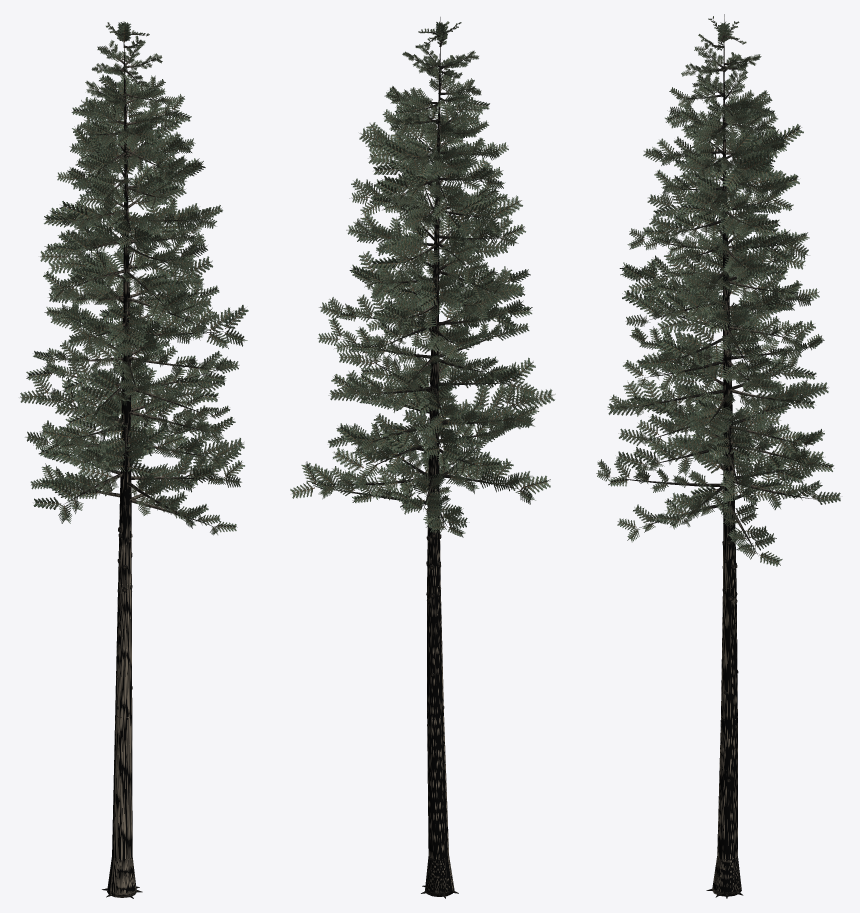
The model's file is Sitka_OldLarge_01_HighPruned_Healed_LOD0.fbx.
The picture shows the model from 3 angles, left to right: view 1: azimuth 30°, elevation 25°; view 2: azimuth 150°, elevation 25°; view 3: azimuth 270°, elevation 25°; orthographic projection.
Parts seen in each view (by area): view 1: Sitka_OldLarge_01_HighPruned_Healed_LOD0; view 2: Sitka_OldLarge_01_HighPruned_Healed_LOD0; view 3: Sitka_OldLarge_01_HighPruned_Healed_LOD0.
Boxes of the visible parts, x1,y1,x2,y2 form: Sitka_OldLarge_01_HighPruned_Healed_LOD0: (20,21,248,898); Sitka_OldLarge_01_HighPruned_Healed_LOD0: (290,17,555,898); Sitka_OldLarge_01_HighPruned_Healed_LOD0: (596,14,840,898).
Size of the model in its own units: 882 by 3200 by 847.
3 materials, 3 textured.
